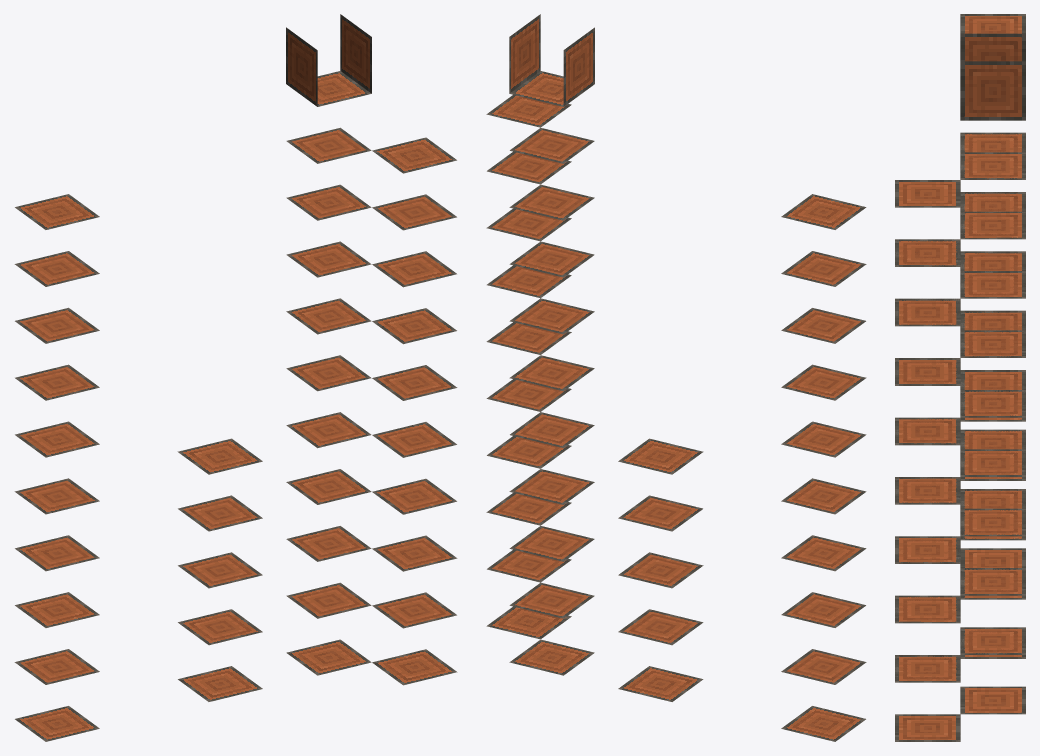
File: lighthouse_acacia_log_top.obj
3 views of the same model, side by side, from view 1: azimuth 30°, elevation 25°; view 2: azimuth 150°, elevation 25°; view 3: azimuth 270°, elevation 25° (orthographic). The views are drawn at different scales.
Bounding box in the file's own units: 7 × 11 × 2.
